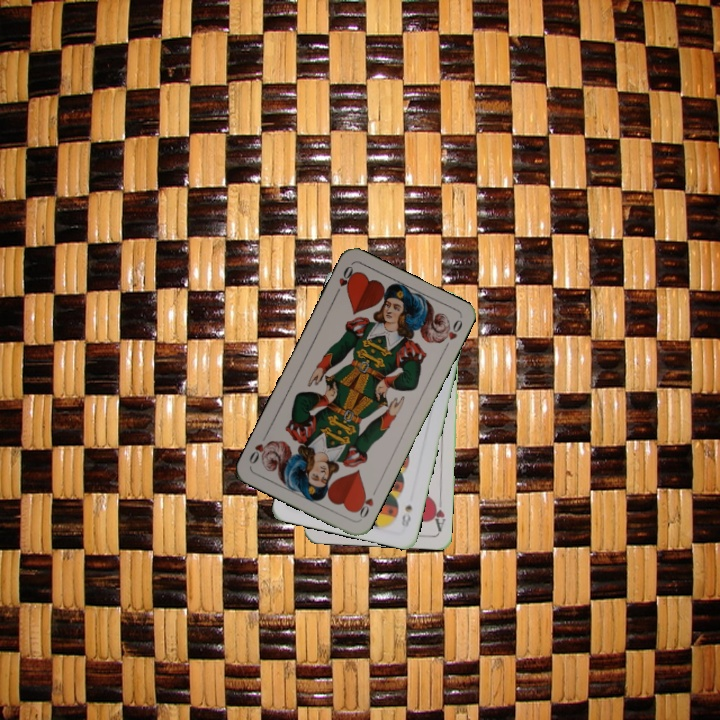HA: (428, 493, 448, 534)
HO: (352, 484, 380, 521), (331, 262, 358, 299)
S8: (397, 501, 415, 530)
